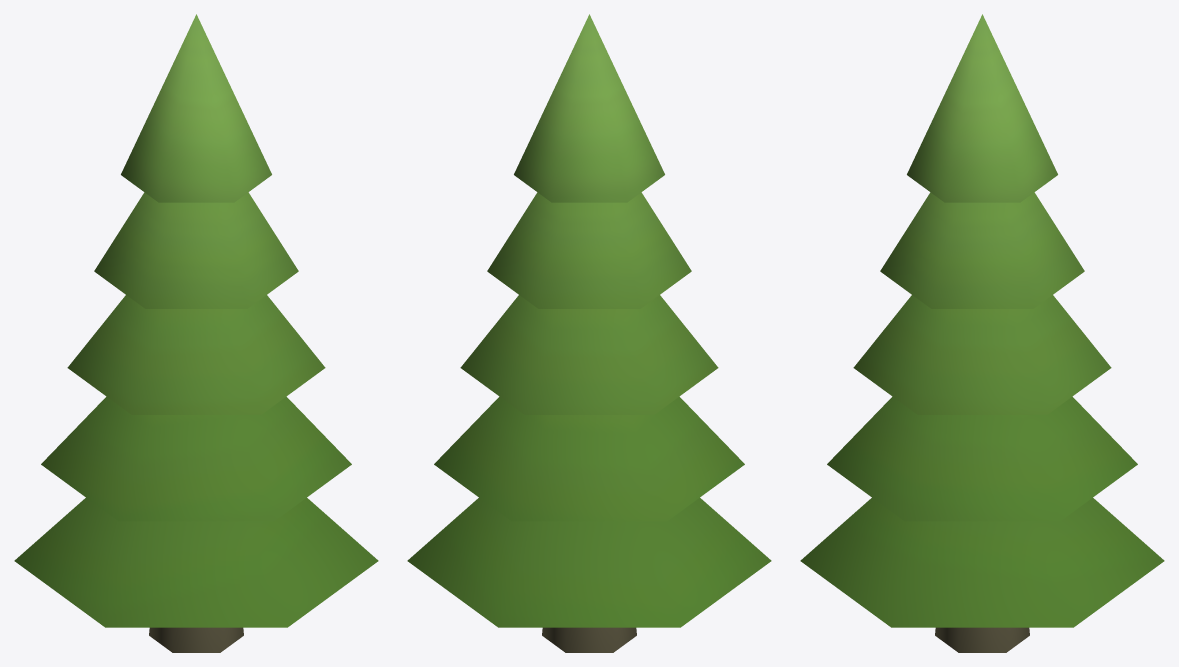
The model's file is pack03_foliage2_11.fbx.
3 renders of one model, left to right at view 1: azimuth 30°, elevation 25°; view 2: azimuth 150°, elevation 25°; view 3: azimuth 270°, elevation 25°, orthographic.
Parts seen in each view (by area): view 1: Tree.004; view 2: Tree.004; view 3: Tree.004.
Part boxes in pixels (x1=…): Tree.004: x1=14, y1=14, x2=378, y2=652; Tree.004: x1=407, y1=14, x2=771, y2=652; Tree.004: x1=800, y1=14, x2=1164, y2=652.
Size of the model in its own units: 283 by 614 by 326.
1 material, 1 textured.
